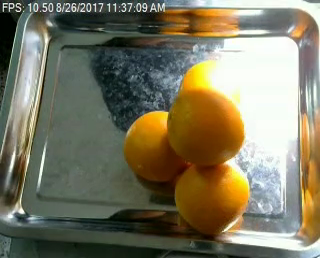Orange: (168, 88, 246, 166), (174, 156, 249, 231), (125, 110, 188, 181)
